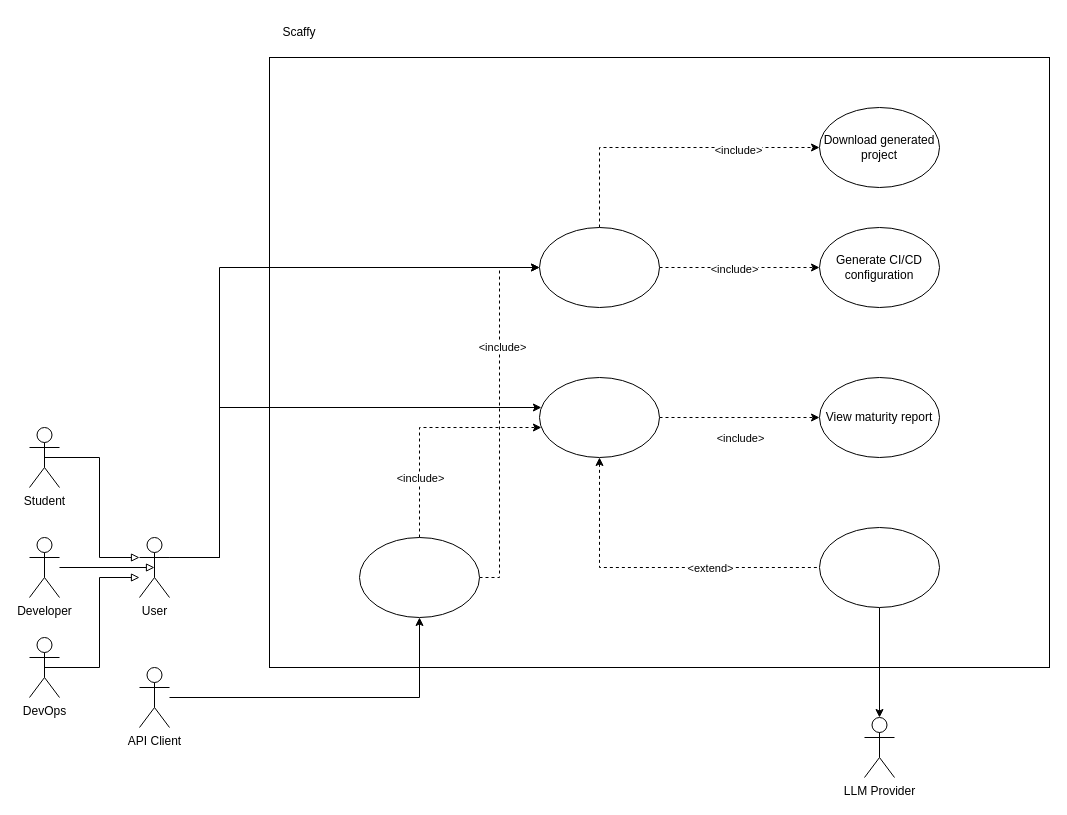
The diagram is 1067 pixels wide and 815 high, and some of its shapes have lost their labels. Here are the shapes that lost their labels. From the top down, the centre of each, then its label:
At (x=599, y=267): "Initialize project".
At (x=599, y=417): "Analyze CI/CD pipeline".
At (x=419, y=577): "Access REST API".
At (x=879, y=567): "View AI recommendation".
